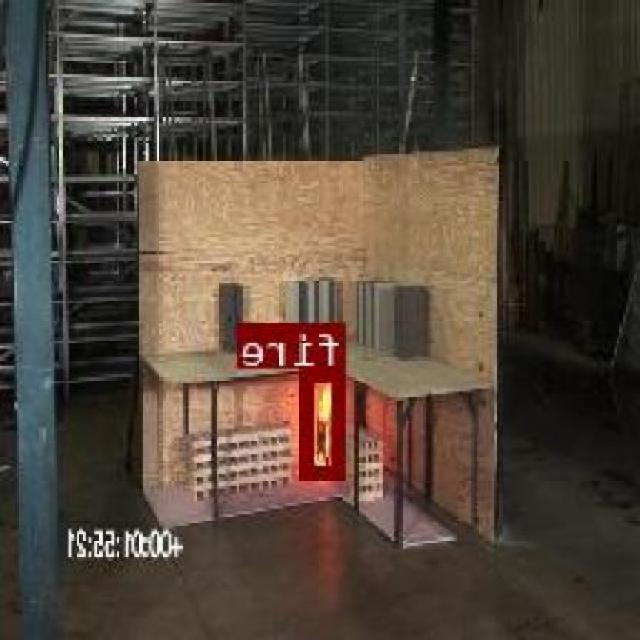Fire: (305, 366, 347, 477)
